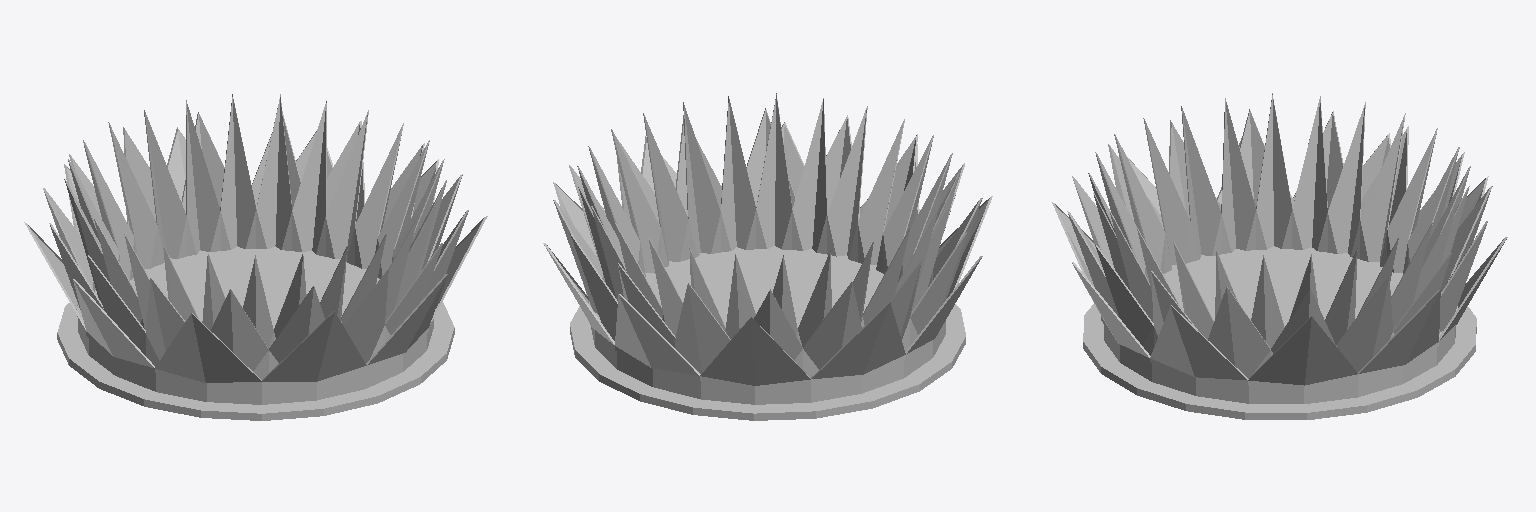
Rendered from portal_000016.obj.
The picture shows the model from 3 angles: view 1: azimuth 30°, elevation 25°; view 2: azimuth 150°, elevation 25°; view 3: azimuth 270°, elevation 25°; orthographic projection.
Parts seen in each view (by area): view 1: Cylinder.001, pCylinder1, Cylinder; view 2: Cylinder.001, pCylinder1, Cylinder; view 3: Cylinder.001, pCylinder1, Cylinder.
Part boxes in pixels (x1,y1,x2,y2): Cylinder.001: (64,94,446,348); pCylinder1: (24,127,487,420); Cylinder: (43,111,468,379); Cylinder.001: (577,93,959,347); pCylinder1: (543,122,992,420); Cylinder: (553,108,982,377); Cylinder.001: (1088,93,1470,348); pCylinder1: (1052,133,1507,419); Cylinder: (1067,109,1492,378).
Size of the model in its own units: 7.38 by 2.9 by 7.33.